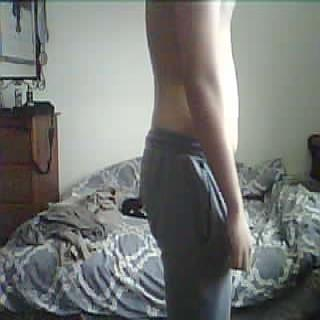Blue Sweatpants: (140, 123, 244, 320)
